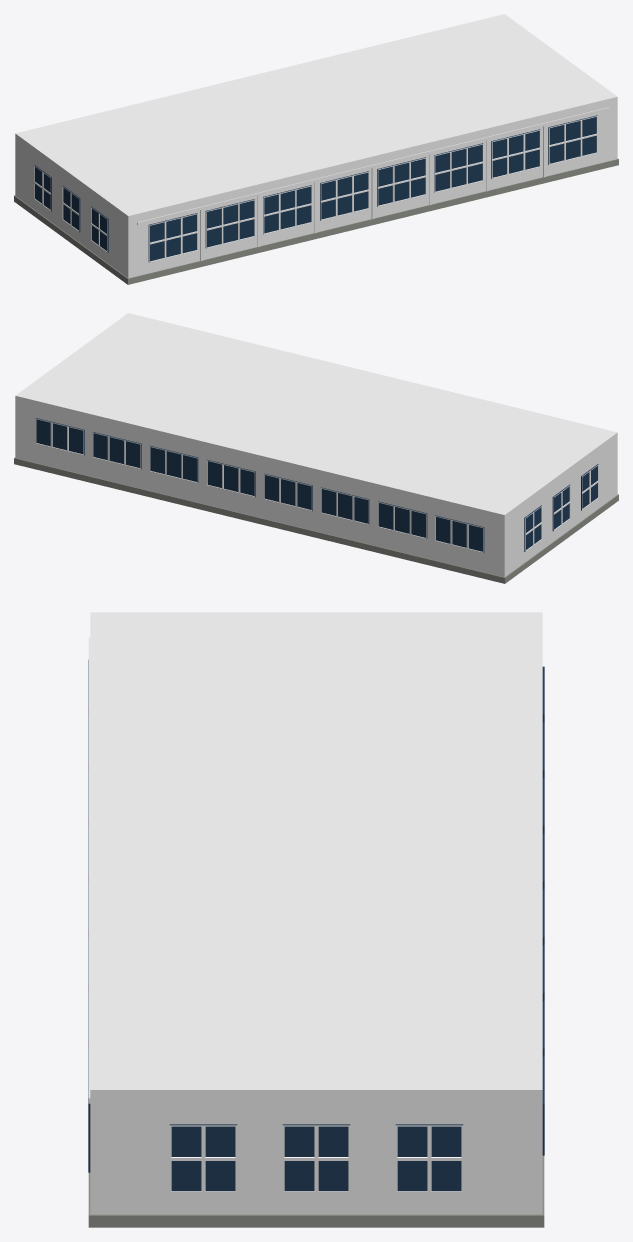
Rendered from mashup-main-mid-prebuilt_close.fbx.
3 renders of one model, top to bottom at view 1: azimuth 30°, elevation 25°; view 2: azimuth 150°, elevation 25°; view 3: azimuth 270°, elevation 25°, orthographic. The views are drawn at different scales.
Parts seen in each view (by area): view 1: a200.MainMid.001; view 2: a200.MainMid.001; view 3: a200.MainMid.001.
Boxes of the visible parts, x1,y1,x2,y2 form: a200.MainMid.001: (14, 14, 618, 284); a200.MainMid.001: (14, 313, 618, 583); a200.MainMid.001: (88, 612, 544, 1227).
Bounding box in the file's own units: 30.12 × 4 × 12.12.
